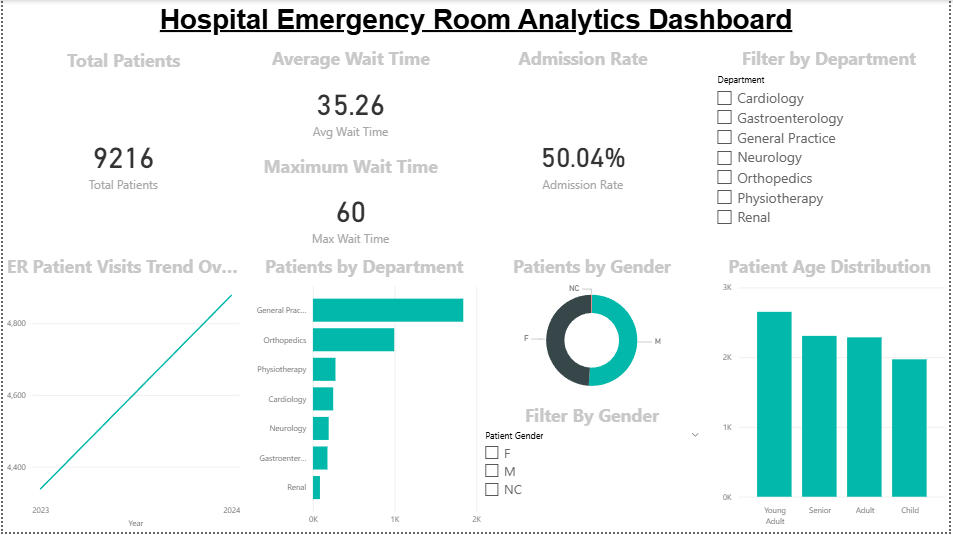

This screenshot's page, from the dashboard's own definition file:
{"tool":"powerbi","page":{"name":"Page 1","canvas":[1280,720],"ordinal":0},"visuals":[{"type":"card","title":"Total Patients","fields":{"Values":["Hospital ER_Data.Total Patients"]},"box":[0,64,326,280],"z":0},{"type":"card","title":"Average Wait Time","fields":{"Values":["Hospital ER_Data.Avg Wait Time"]},"box":[325.6,63.5,289.8,140],"z":1000},{"type":"card","title":"Maximum Wait Time","fields":{"Values":["Hospital ER_Data.Max Wait Time"]},"box":[325.6,208.4,289.8,140],"z":2000},{"type":"clusteredBarChart","title":"Patients by Department","fields":{"Category":["Hospital ER_Data.Department"],"Y":["CountNonNull(Hospital ER_Data.Patient Id)"]},"box":[326,344,326,376],"z":3000},{"type":"donutChart","title":"Patients by Gender","fields":{"Category":["Hospital ER_Data.Patient Gender"],"Y":["CountNonNull(Hospital ER_Data.Patient Id)"]},"box":[639.8,343.5,314.2,201.9],"z":4000},{"type":"columnChart","title":"Patient Age Distribution","fields":{"Y":["CountNonNull(Hospital ER_Data.Patient Id)"],"Category":["Hospital ER_Data.Age Group"]},"box":[954,344,326,376],"z":5000},{"type":"card","title":"Admission Rate","fields":{"Values":["Hospital ER_Data.Admission Rate"]},"box":[615.4,63.5,338.6,284.9],"z":6000},{"type":"textbox","box":[0,0,1279.5,63.5],"z":7000},{"type":"lineChart","title":"ER Patient Visits Trend Over Time","fields":{"Y":["CountNonNull(Hospital ER_Data.Patient Id)"],"Category":["Hospital ER_Data.Arrival_Time.Variation.Date Hierarchy.Year","Hospital ER_Data.Arrival_Time.Variation.Date Hierarchy.Quarter","Hospital ER_Data.Arrival_Time.Variation.Date Hierarchy.Month","Hospital ER_Data.Arrival_Time.Variation.Date Hierarchy.Day"]},"box":[0,344,326,376],"z":8000},{"type":"slicer","title":"Filter By Gender","fields":{"Values":["Hospital ER_Data.Patient Gender"]},"box":[639.8,545.4,314.2,174.2],"z":9000},{"type":"slicer","title":"Filter by Department","fields":{"Values":["Hospital ER_Data.Department"]},"box":[953.3,63.1,326.8,281],"z":9001}]}

Visuals, with their boxes in screenshot pixels (x1, y1, x2, y2), scaled from the page's 1280x720 canvas onto the 953x535 screenshot:
"Total Patients" card: bbox=(0, 48, 243, 256)
"Average Wait Time" card: bbox=(242, 47, 458, 151)
"Maximum Wait Time" card: bbox=(242, 155, 458, 259)
"Patients by Department" clusteredBarChart: bbox=(243, 256, 485, 534)
"Patients by Gender" donutChart: bbox=(476, 255, 710, 405)
"Patient Age Distribution" columnChart: bbox=(710, 256, 952, 534)
"Admission Rate" card: bbox=(458, 47, 710, 259)
textbox: bbox=(0, 0, 952, 47)
"ER Patient Visits Trend Over Time" lineChart: bbox=(0, 256, 243, 534)
"Filter By Gender" slicer: bbox=(476, 405, 710, 534)
"Filter by Department" slicer: bbox=(710, 47, 952, 256)
